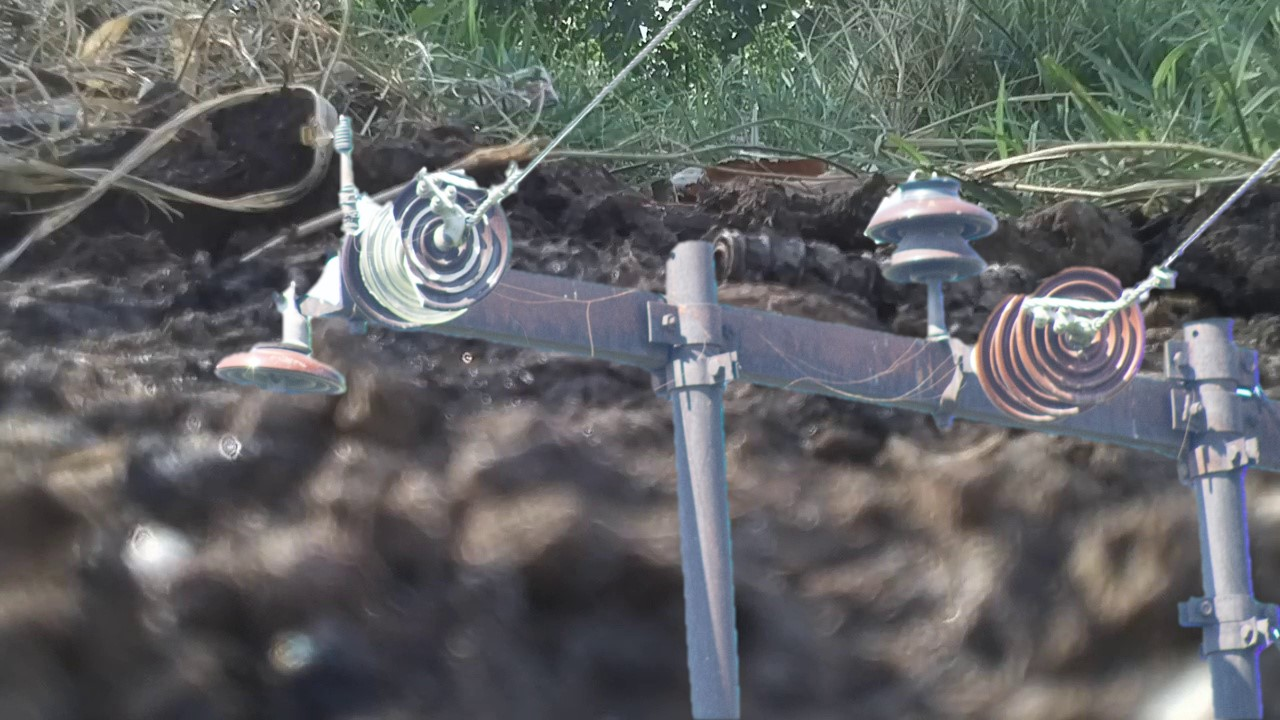defect_disc: (388, 166, 515, 314)
insulator_disc: (1014, 261, 1148, 408), (214, 328, 351, 404)
